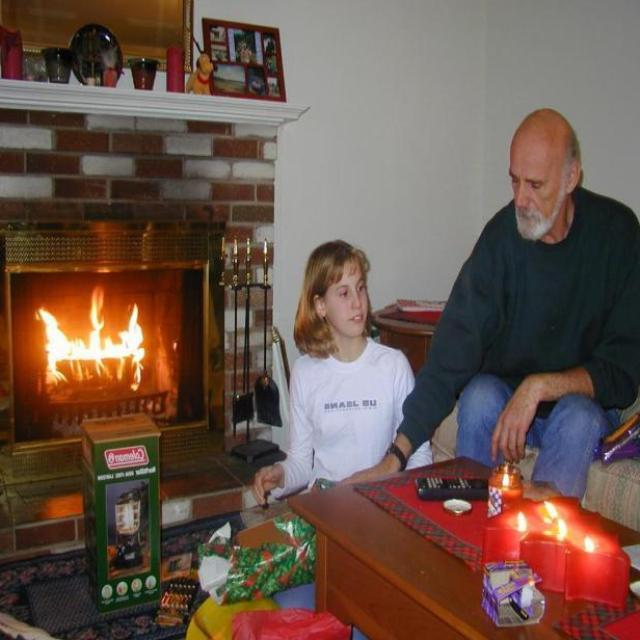smoke: (34, 284, 148, 390), (514, 511, 529, 532), (556, 518, 569, 540), (544, 498, 558, 518), (583, 535, 595, 554)
